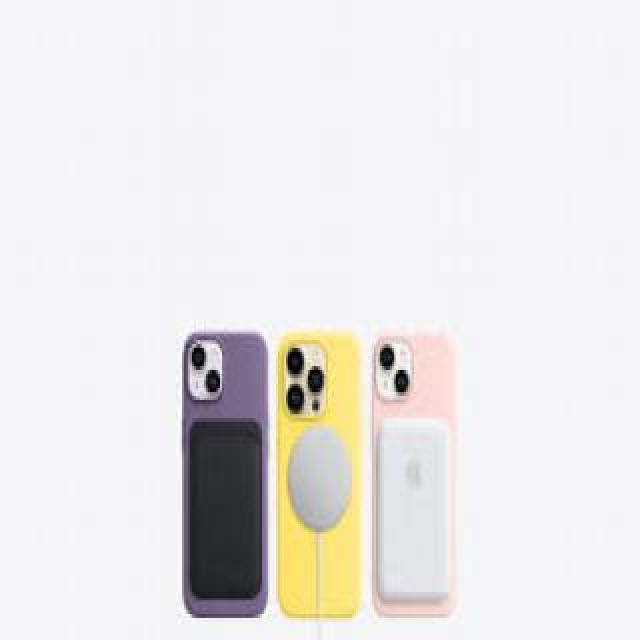smart phone: (152, 317, 275, 620), (347, 310, 470, 580), (267, 313, 370, 632)
